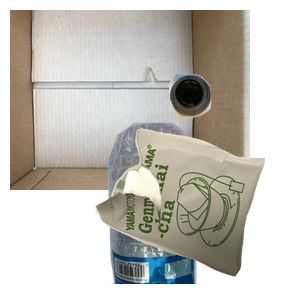cardboard: (10, 10, 250, 190)
glass: (166, 71, 300, 181)
plastic: (96, 120, 285, 300)
trash: (93, 126, 300, 300)
